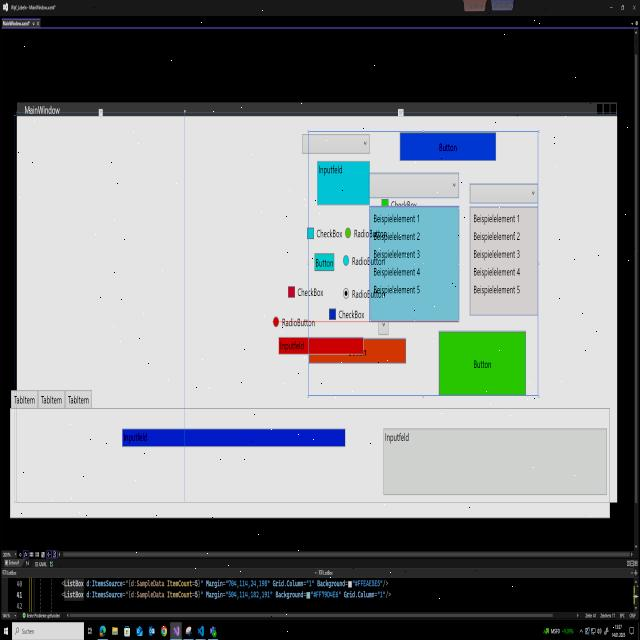button: (438, 329, 528, 398), (398, 129, 498, 163), (313, 251, 335, 271)
checkbox: (287, 284, 296, 300), (328, 306, 337, 322), (306, 226, 315, 241)
dropdownMenu: (368, 169, 459, 325), (468, 178, 539, 318), (301, 131, 372, 155), (377, 316, 390, 336)
input: (381, 424, 609, 498), (120, 424, 347, 449), (316, 158, 372, 208), (277, 334, 365, 356)
label: (316, 226, 343, 240), (282, 317, 316, 328), (297, 285, 324, 298), (338, 308, 365, 320)
menuItem: (473, 212, 520, 225), (373, 212, 420, 225), (473, 230, 521, 242), (473, 248, 521, 260), (473, 284, 521, 296), (474, 266, 521, 278), (374, 230, 421, 242), (374, 266, 421, 278), (374, 249, 421, 260), (373, 284, 422, 294)
radio: (342, 286, 350, 300), (272, 314, 280, 328), (344, 226, 352, 238), (342, 254, 350, 266)
tabControl: (36, 386, 66, 412), (64, 385, 93, 411), (9, 387, 39, 410)
